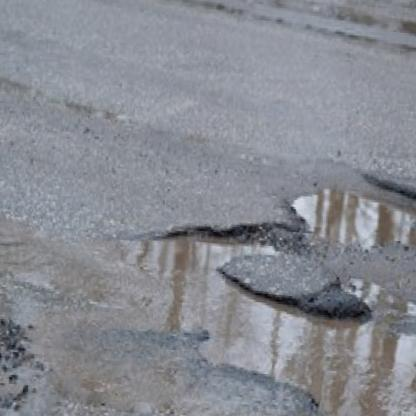pothole: (285, 163, 416, 267)
